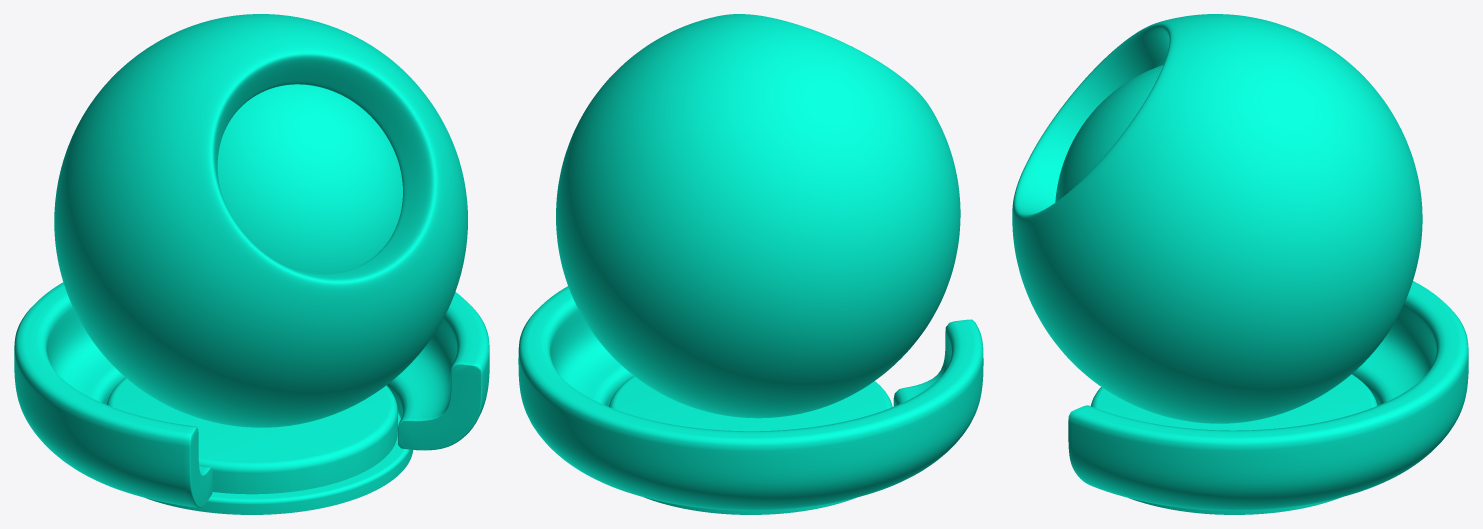
The model's file is gltf_simple.gltf.
3 views of the same model, side by side, from view 1: azimuth 30°, elevation 25°; view 2: azimuth 150°, elevation 25°; view 3: azimuth 270°, elevation 25° (orthographic). The views are drawn at different scales.
Visible parts, largest first — view 1: Preview_Mesh, Calibration_Mesh; view 2: Preview_Mesh, Calibration_Mesh; view 3: Preview_Mesh, Calibration_Mesh.
Boxes of the visible parts, bbox=[...] form: Preview_Mesh: bbox=[14, 14, 489, 507]; Calibration_Mesh: bbox=[106, 84, 413, 514]; Preview_Mesh: bbox=[518, 14, 983, 510]; Calibration_Mesh: bbox=[609, 376, 892, 514]; Preview_Mesh: bbox=[1012, 14, 1468, 510]; Calibration_Mesh: bbox=[1055, 65, 1377, 514].
Size of the model in its own units: 2.14 by 2.09 by 2.08.
